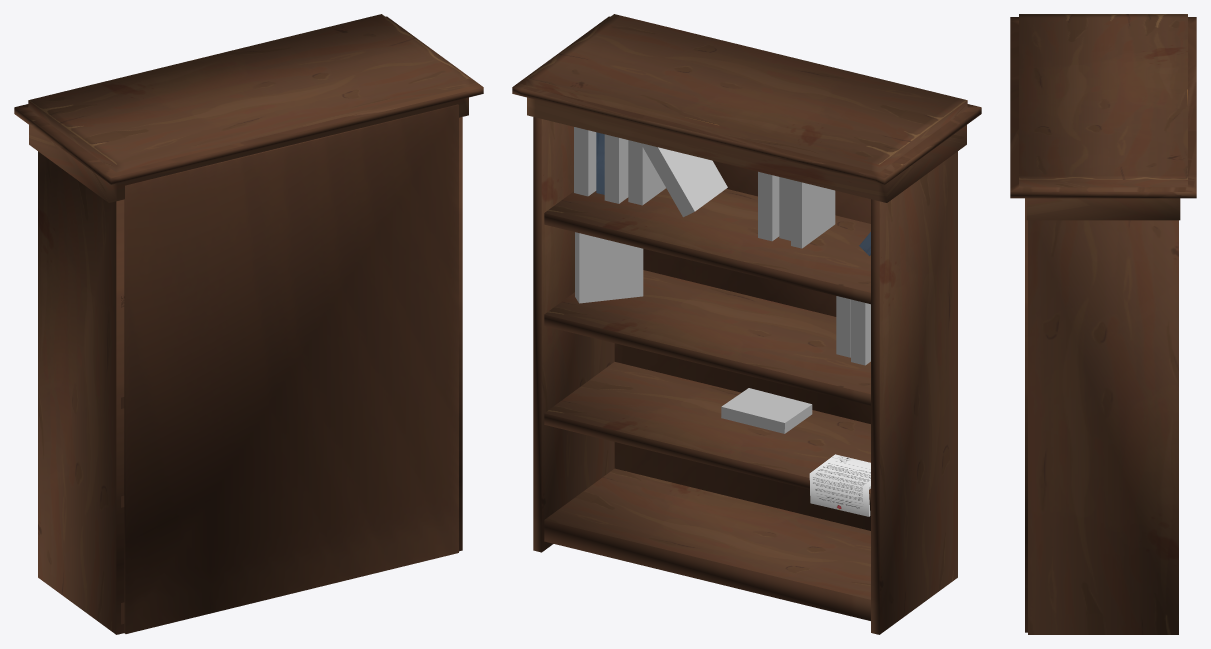
Rendered from Armario.fbx.
The picture shows the model from 3 angles, left to right: view 1: azimuth 30°, elevation 25°; view 2: azimuth 150°, elevation 25°; view 3: azimuth 270°, elevation 25°; orthographic projection. The views are drawn at different scales.
Visible parts, largest first — view 1: Cube.034; view 2: Cube.034, Cube.040, Cube.042, Cube.043; view 3: Cube.034.
Boxes of the visible parts, x1,y1,x2,y2 form: Cube.034: (14,14,483,634); Cube.034: (512,14,981,634); Cube.040: (574,127,870,516); Cube.042: (575,232,643,303); Cube.043: (721,388,812,433); Cube.034: (1010,14,1196,634).
Bounding box in the file's own units: 344 × 419 × 155.
